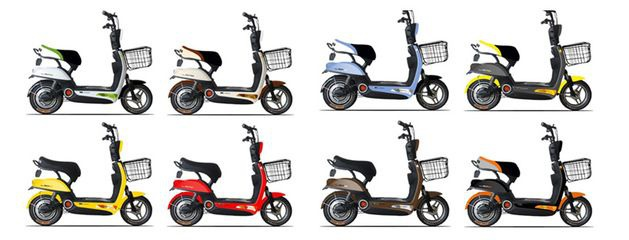non-vehicle: (163, 9, 300, 119), (317, 5, 455, 114), (312, 122, 458, 222), (23, 124, 164, 226), (463, 123, 595, 230), (23, 8, 153, 114), (465, 9, 601, 110), (166, 126, 296, 227)
